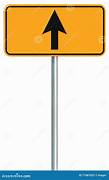forward: (3, 3, 104, 56)
